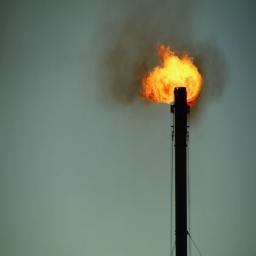fire: (140, 43, 202, 108)
smoke: (92, 0, 229, 126)
